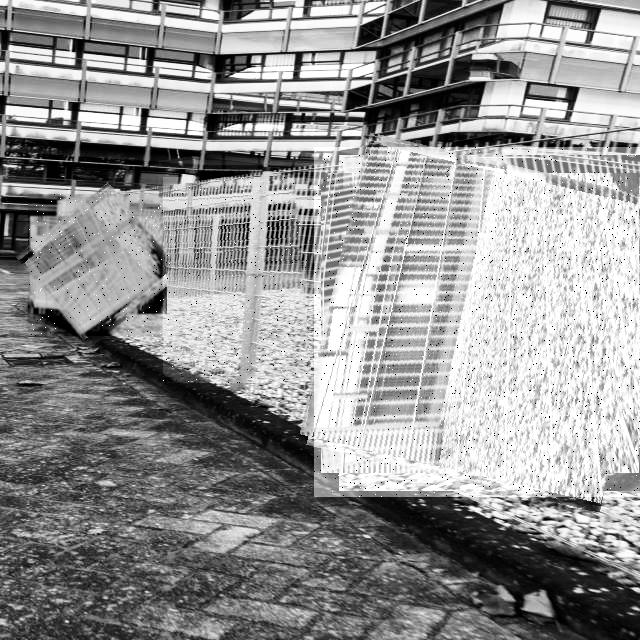fences: (314, 147, 640, 497), (163, 177, 307, 383), (28, 194, 171, 336)
